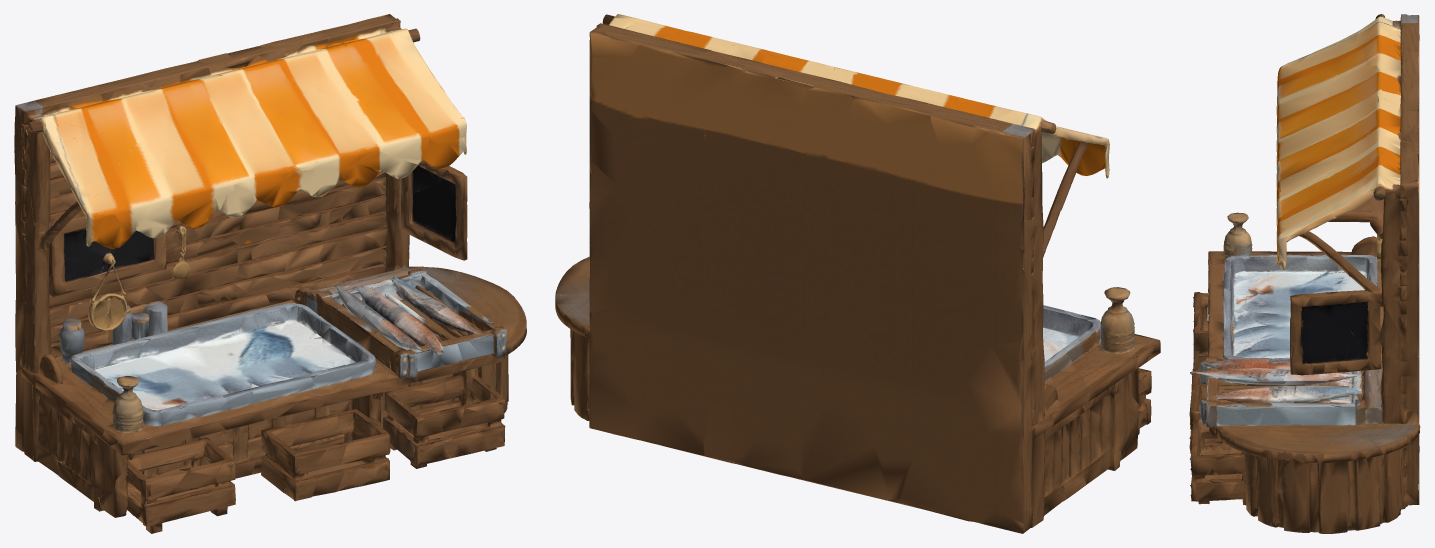
The model's file is banco_pesce_lod1.glb.
3 renders of one model, left to right at view 1: azimuth 30°, elevation 25°; view 2: azimuth 150°, elevation 25°; view 3: azimuth 270°, elevation 25°, orthographic. The views are drawn at different scales.
Parts seen in each view (by area): view 1: Mesh_0; view 2: Mesh_0; view 3: Mesh_0.
Part boxes in pixels (bbox=[...]): Mesh_0: bbox=[14, 14, 526, 533]; Mesh_0: bbox=[555, 14, 1160, 533]; Mesh_0: bbox=[1189, 14, 1420, 533].
Size of the model in its own units: 3.35 by 2.5 by 1.61.
Materials: 1 (1 with a texture image).
